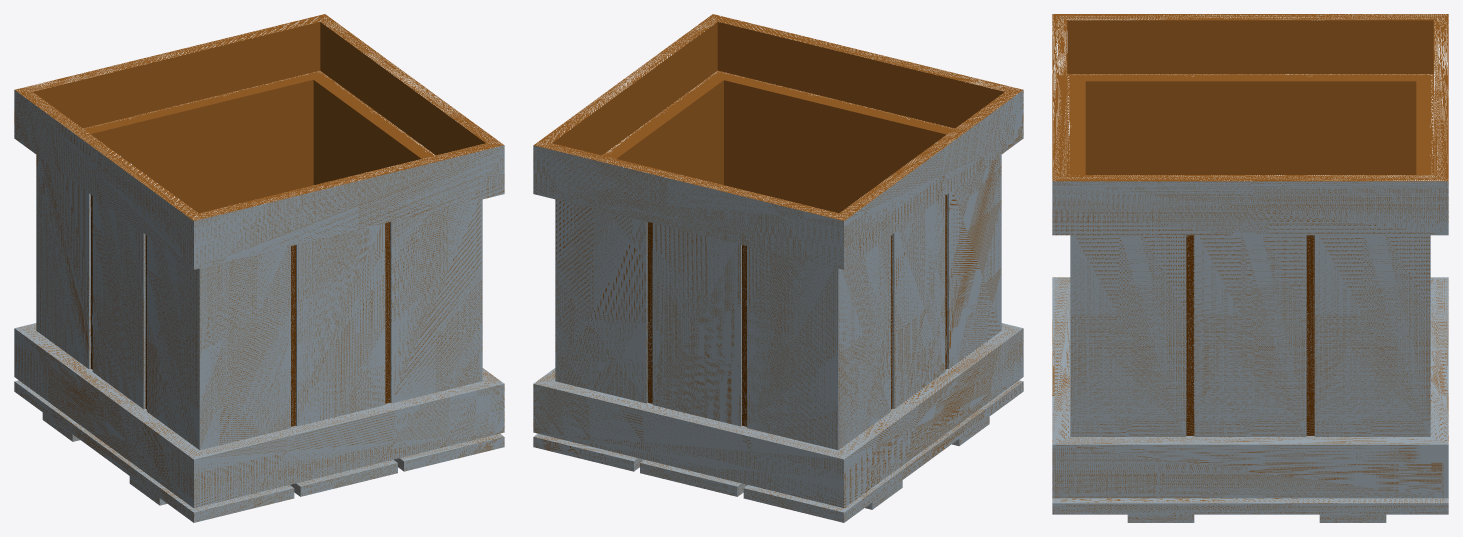
File: Crate_Empty_01.fbx
3 renders of one model, left to right at view 1: azimuth 30°, elevation 25°; view 2: azimuth 150°, elevation 25°; view 3: azimuth 270°, elevation 25°, orthographic. The views are drawn at different scales.
Visible parts, largest first — view 1: Model; view 2: Model; view 3: Model.
Boxes of the visible parts, x1,y1,x2,y2 form: Model: (14,14,504,522); Model: (533,14,1023,522); Model: (1052,14,1448,522).
Bounding box in the file's own units: 150 × 143 × 150.
